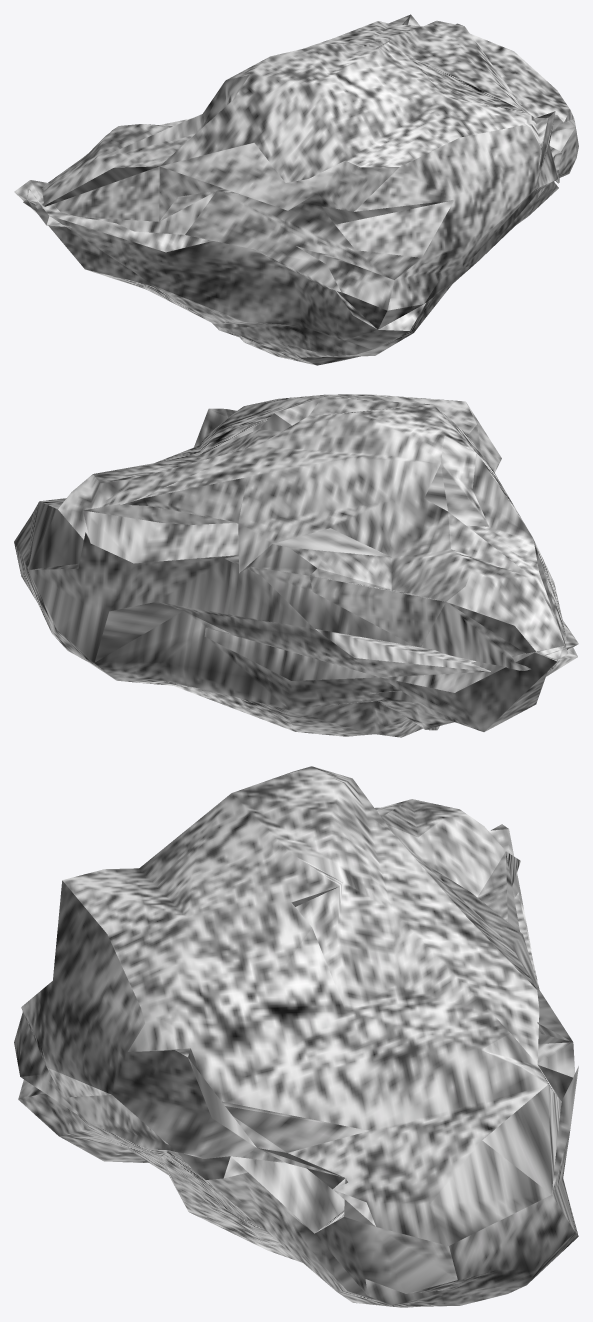
File: Rock_Asset_13.fbx
The picture shows the model from 3 angles, top to bottom: view 1: azimuth 30°, elevation 25°; view 2: azimuth 150°, elevation 25°; view 3: azimuth 270°, elevation 25°; orthographic projection. The views are drawn at different scales.
Parts seen in each view (by area): view 1: Rock_Asset; view 2: Rock_Asset; view 3: Rock_Asset.
Boxes of the visible parts, x1=… form: Rock_Asset: x1=14, y1=14, x2=578, y2=365; Rock_Asset: x1=14, y1=394, x2=578, y2=737; Rock_Asset: x1=14, y1=766, x2=578, y2=1307.
Bounding box in the file's own units: 1.9 × 1.02 × 1.19.
Materials: 1 (1 with a texture image).
